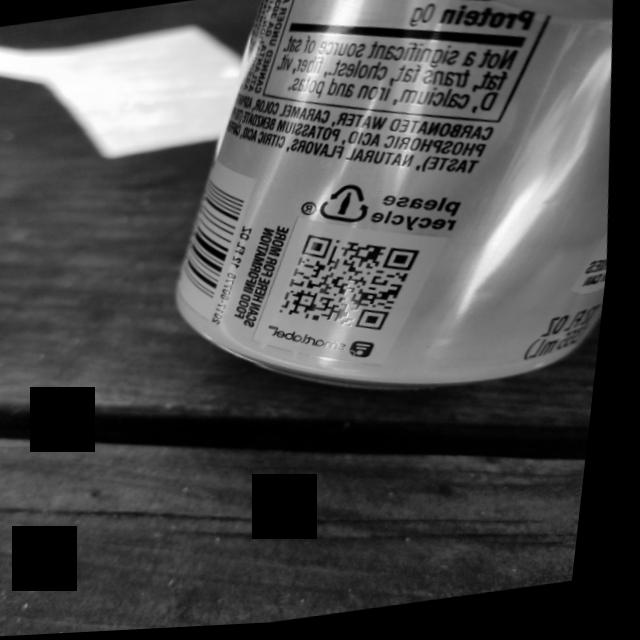QR_CODE: (261, 212, 447, 359)
